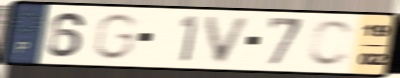1: (178, 14, 200, 64)
6: (46, 10, 87, 60)
7: (265, 15, 306, 68)
C: (305, 18, 357, 69)
G: (90, 11, 142, 62)
V: (202, 14, 257, 66)
